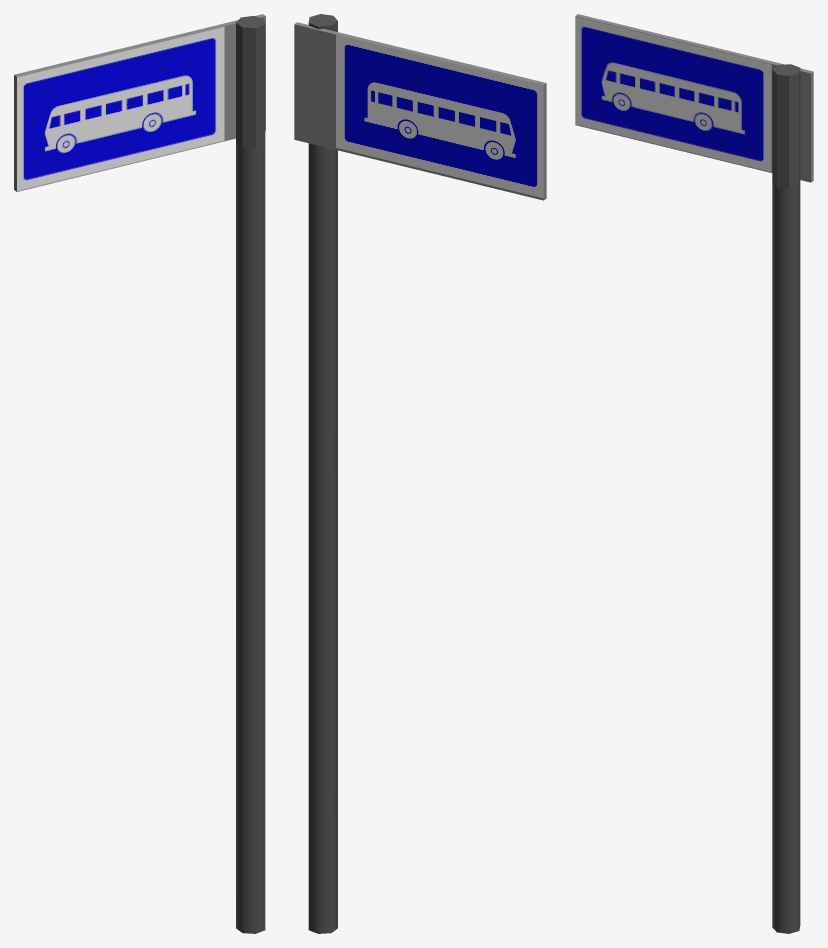
File: Bus_sign.FBX
The picture shows the model from 3 angles, left to right: view 1: azimuth 30°, elevation 25°; view 2: azimuth 150°, elevation 25°; view 3: azimuth 330°, elevation 25°; orthographic projection. The views are drawn at different scales.
Visible parts, largest first — view 1: BussStopSign, Object001; view 2: Object001, BussStopSign; view 3: BussStopSign, Object001.
Boxes of the visible parts, left/top/right/bottom form: BussStopSign: left=236, top=16, right=265, bottom=933; Object001: left=14, top=14, right=265, bottom=191; Object001: left=294, top=22, right=546, bottom=200; BussStopSign: left=308, top=14, right=337, bottom=933; BussStopSign: left=772, top=64, right=800, bottom=933; Object001: left=575, top=14, right=813, bottom=182.
Bounding box in the file's own units: 1.12 × 3.89 × 0.1227.
Materials: 2 (1 with a texture image).
